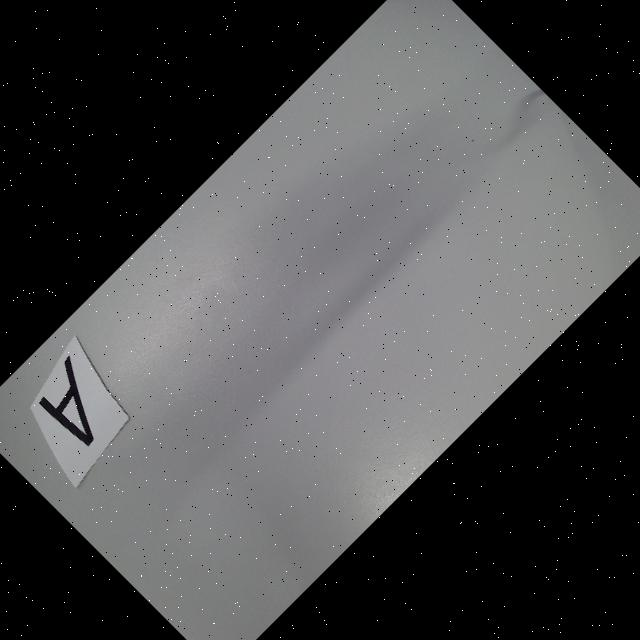FAKE: (28, 354, 124, 449)
